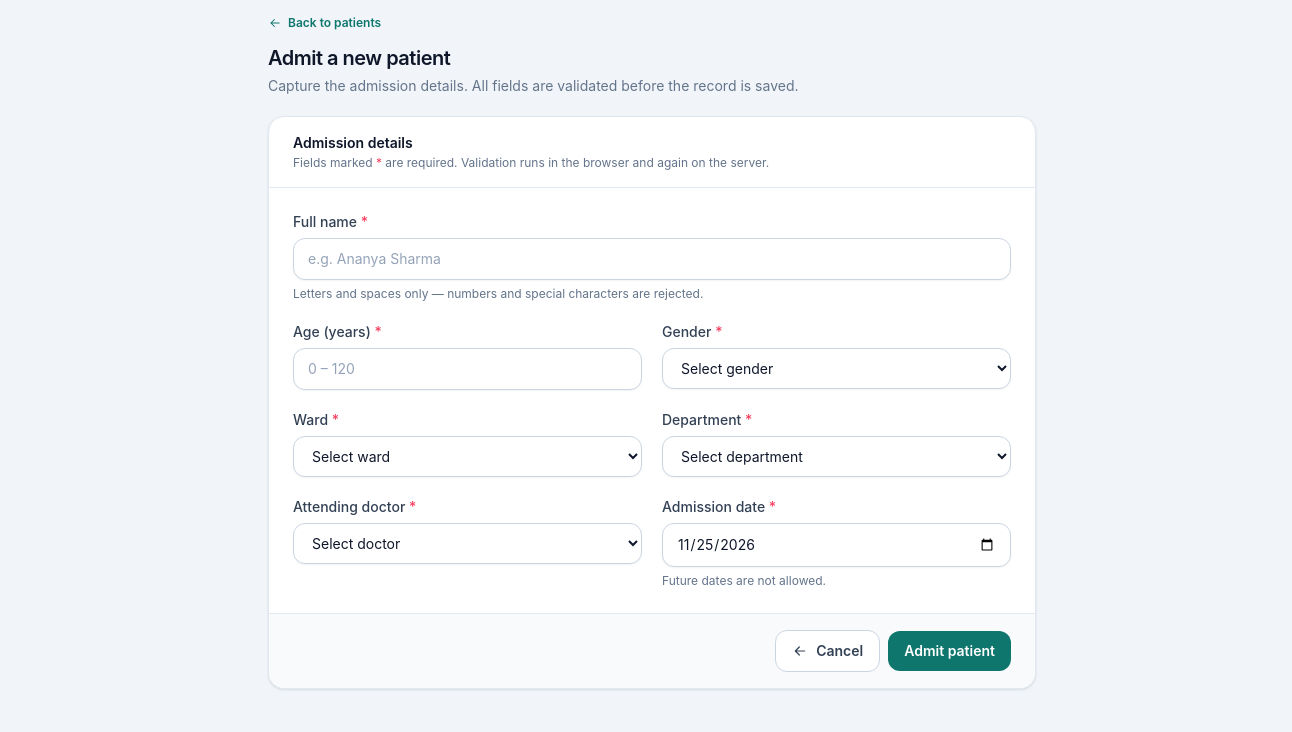
Scenario: AddPatientPage › creates the patient and returns to the register
Type "Ananya Sharma" into the field labelled "Full name *".
click(652, 259); type("Ananya Sharma")  # box [293,238,1011,280]
Type "34" into the number field labelled "Age (years) *".
click(468, 369); type("34")  # box [293,348,642,390]
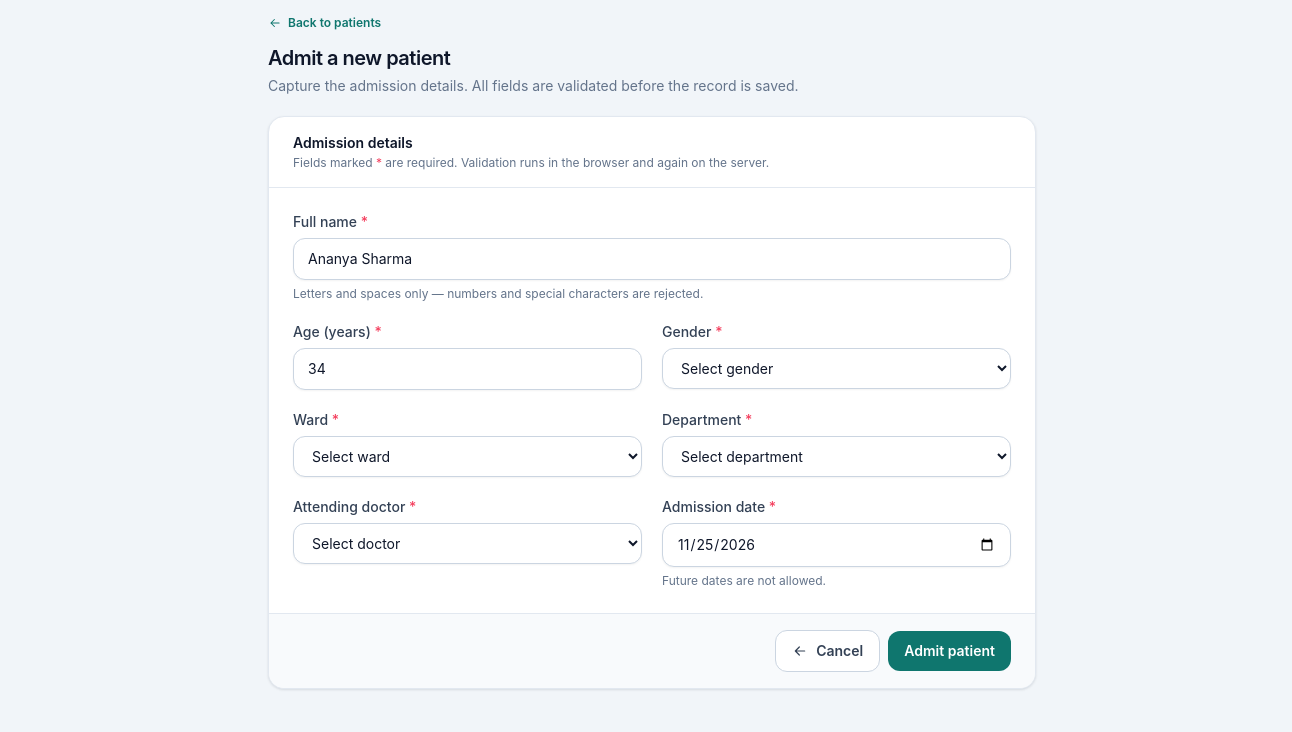
Select "Female" in the dropdown labelled "Gender *" at (836, 368), box [662,348,1011,389]
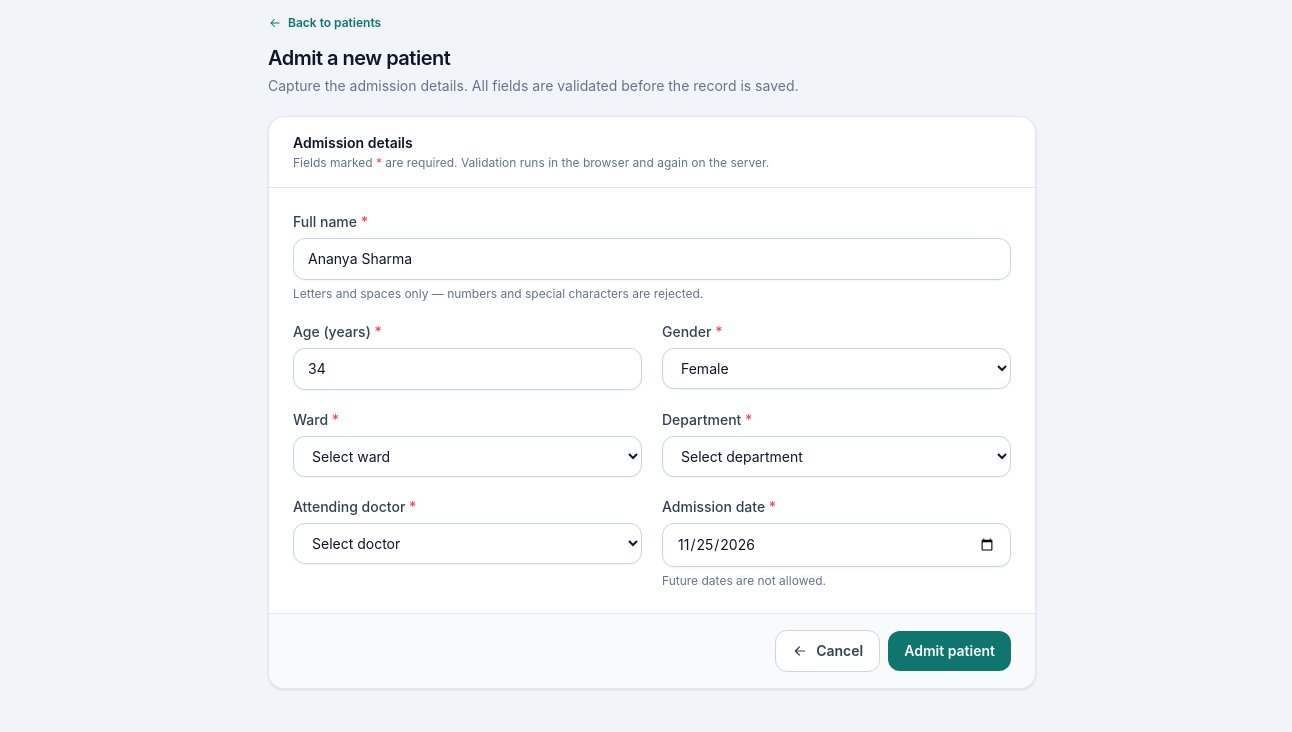
Select "ICU" in the dropdown labelled "Ward *" at (468, 456), box [293,436,642,477]
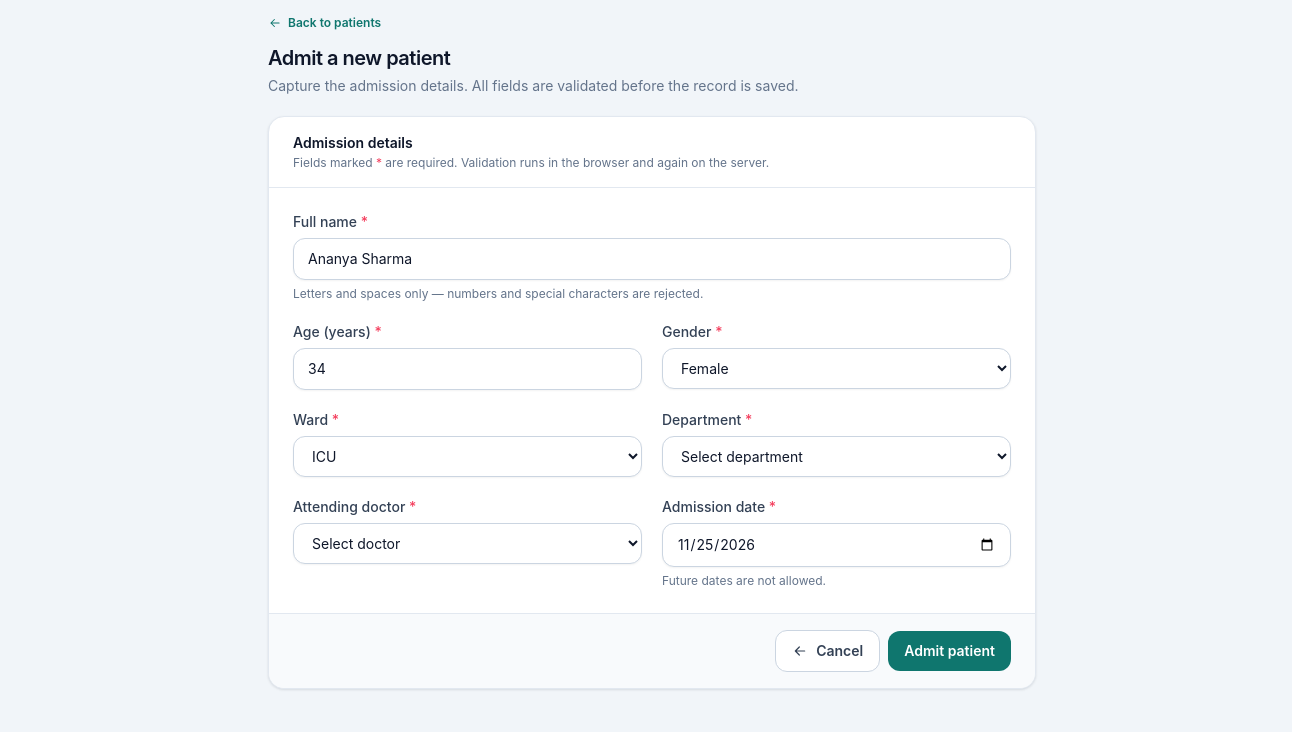
Select "Cardiology" in the dropdown labelled "Department *" at (836, 456), box [662,436,1011,477]
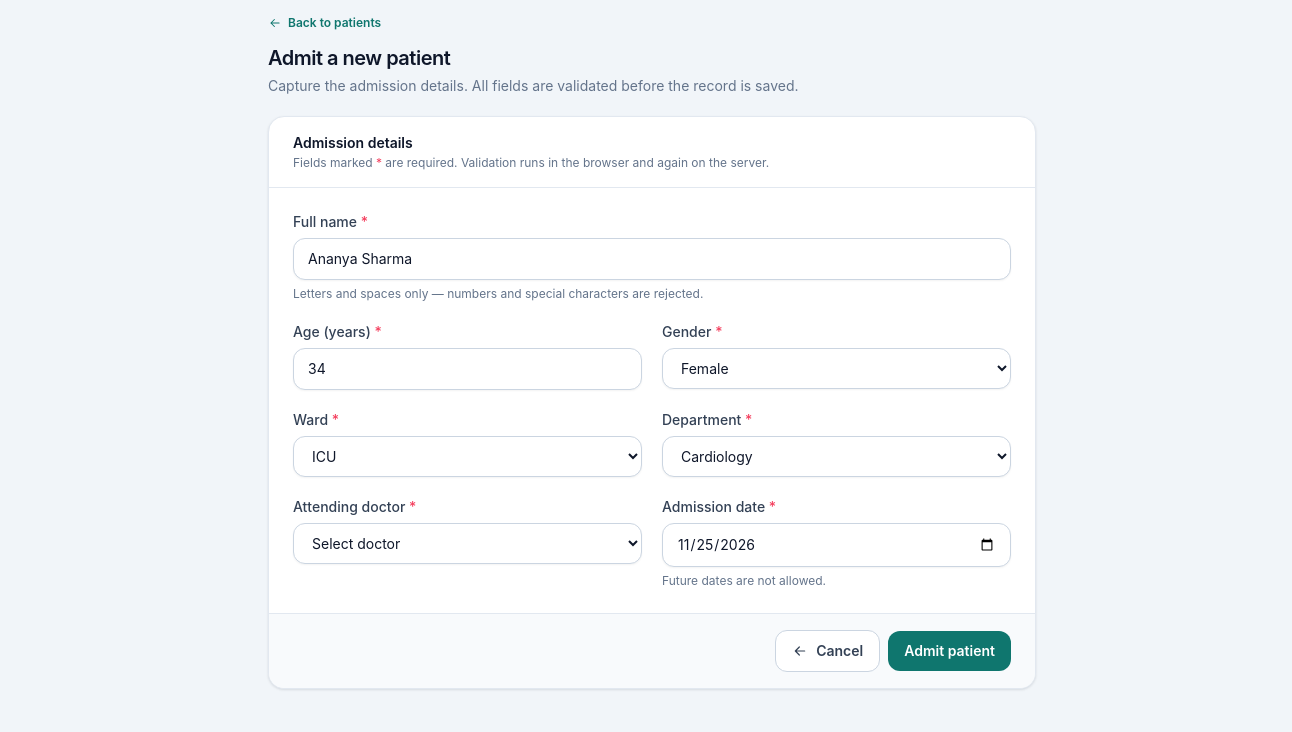
Select "Dr. Aisha Verma" in the dropdown labelled "Attending doctor *" at (468, 544), box [293,523,642,564]
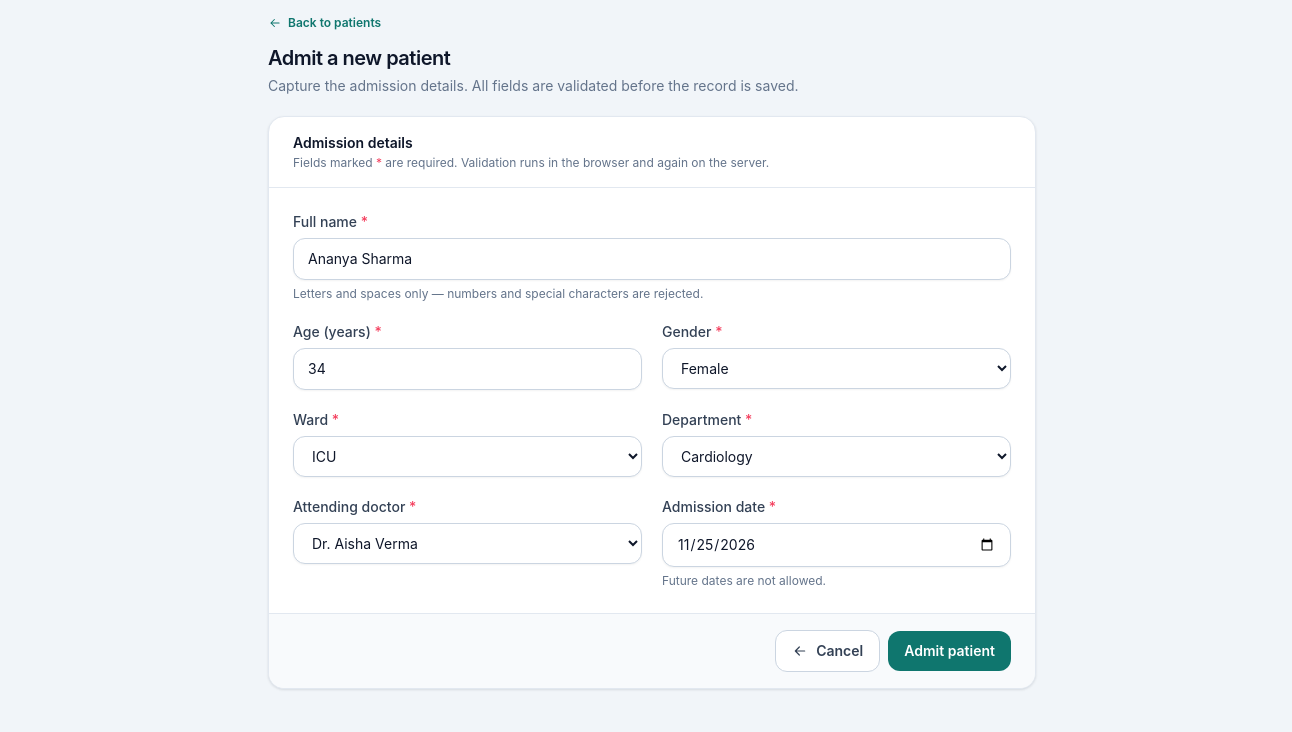
Click the button "Admit patient".
click(950, 651)  # box [888,631,1011,671]
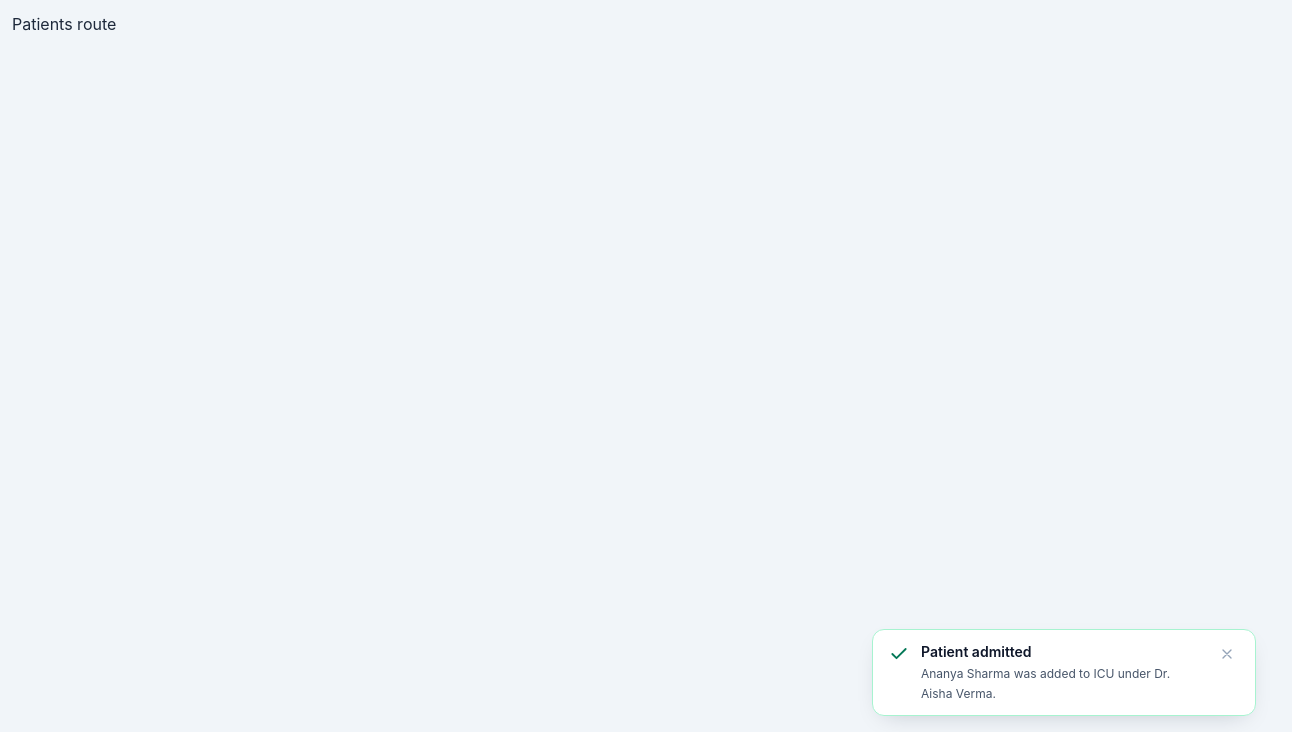
expect the text "Patients route" is shown: met, box [12,14,116,34]
expect the text "Patient admitted" is shown: met, box [921,643,1032,660]
